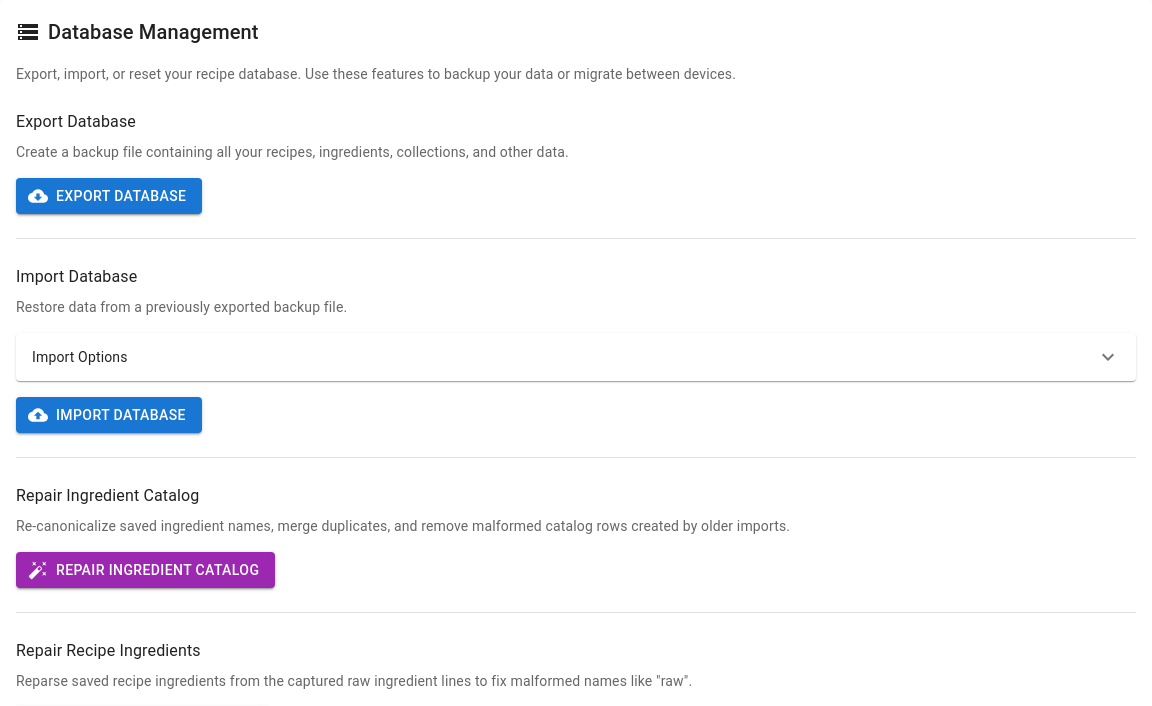
Scenario: DatabaseManagementSection › handles export database successfully
Click the button with test id "dbManagement-button-export" at [109, 196], box 16,178 -> 202,214
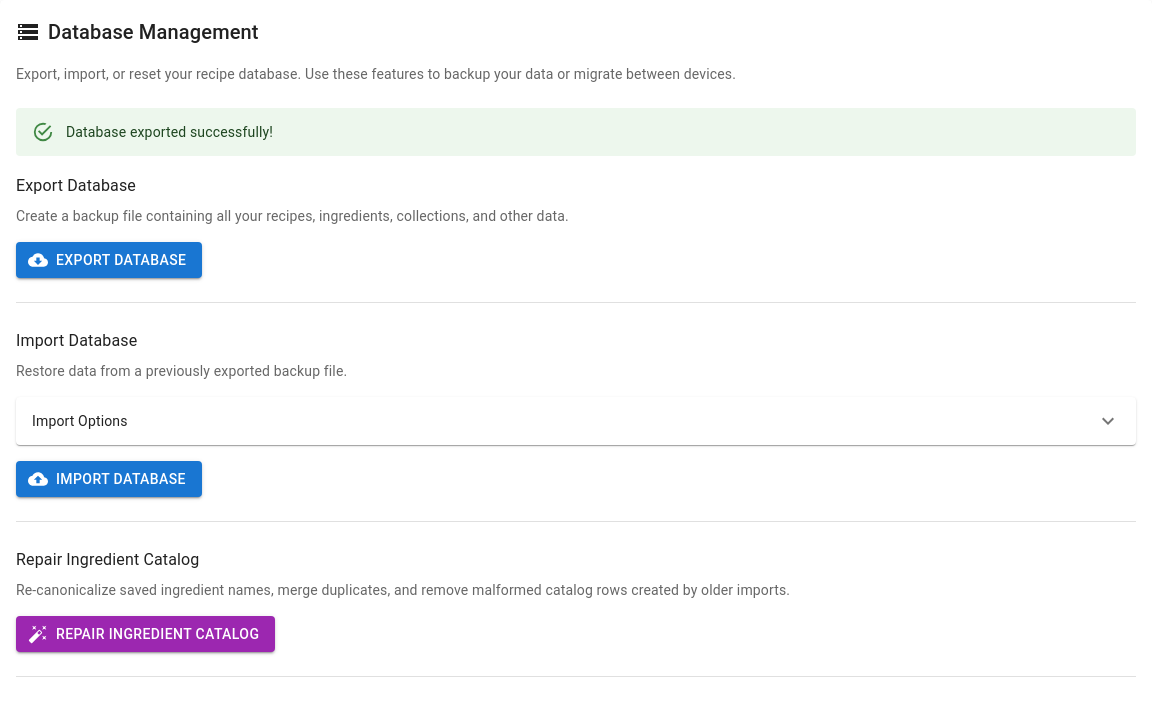
expect the message "Database exported successfully!" is shown: met, box 16,108 -> 1136,156
expect the text "Database exported successfully!" is shown: met, box 66,124 -> 273,140
